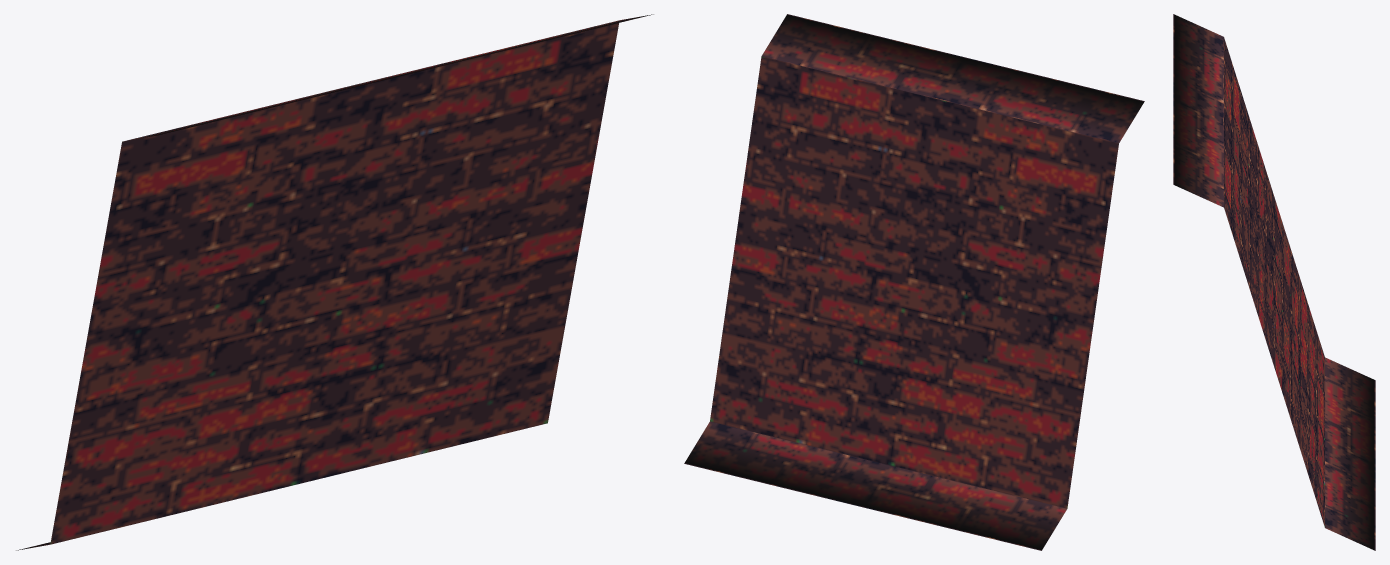
Rendered from Wall Hell 04.fbx.
The picture shows the model from 3 angles, left to right: view 1: azimuth 30°, elevation 25°; view 2: azimuth 150°, elevation 25°; view 3: azimuth 270°, elevation 25°; orthographic projection. The views are drawn at different scales.
Parts seen in each view (by area): view 1: mid, top; view 2: mid, bottom, top; view 3: mid, bottom, top.
Boxes of the visible parts, x1=… form: mid: x1=50, y1=23, x2=618, y2=544; top: x1=124, y1=14, x2=653, y2=141; mid: x1=710, y1=56, x2=1118, y2=508; bottom: x1=684, y1=421, x2=1066, y2=550; top: x1=762, y1=14, x2=1144, y2=143; mid: x1=1224, y1=37, x2=1324, y2=527; bottom: x1=1325, y1=357, x2=1375, y2=550; top: x1=1173, y1=14, x2=1223, y2=207.
Bounding box in the file's own units: 100 × 100 × 50.
2 materials, 2 textured.
